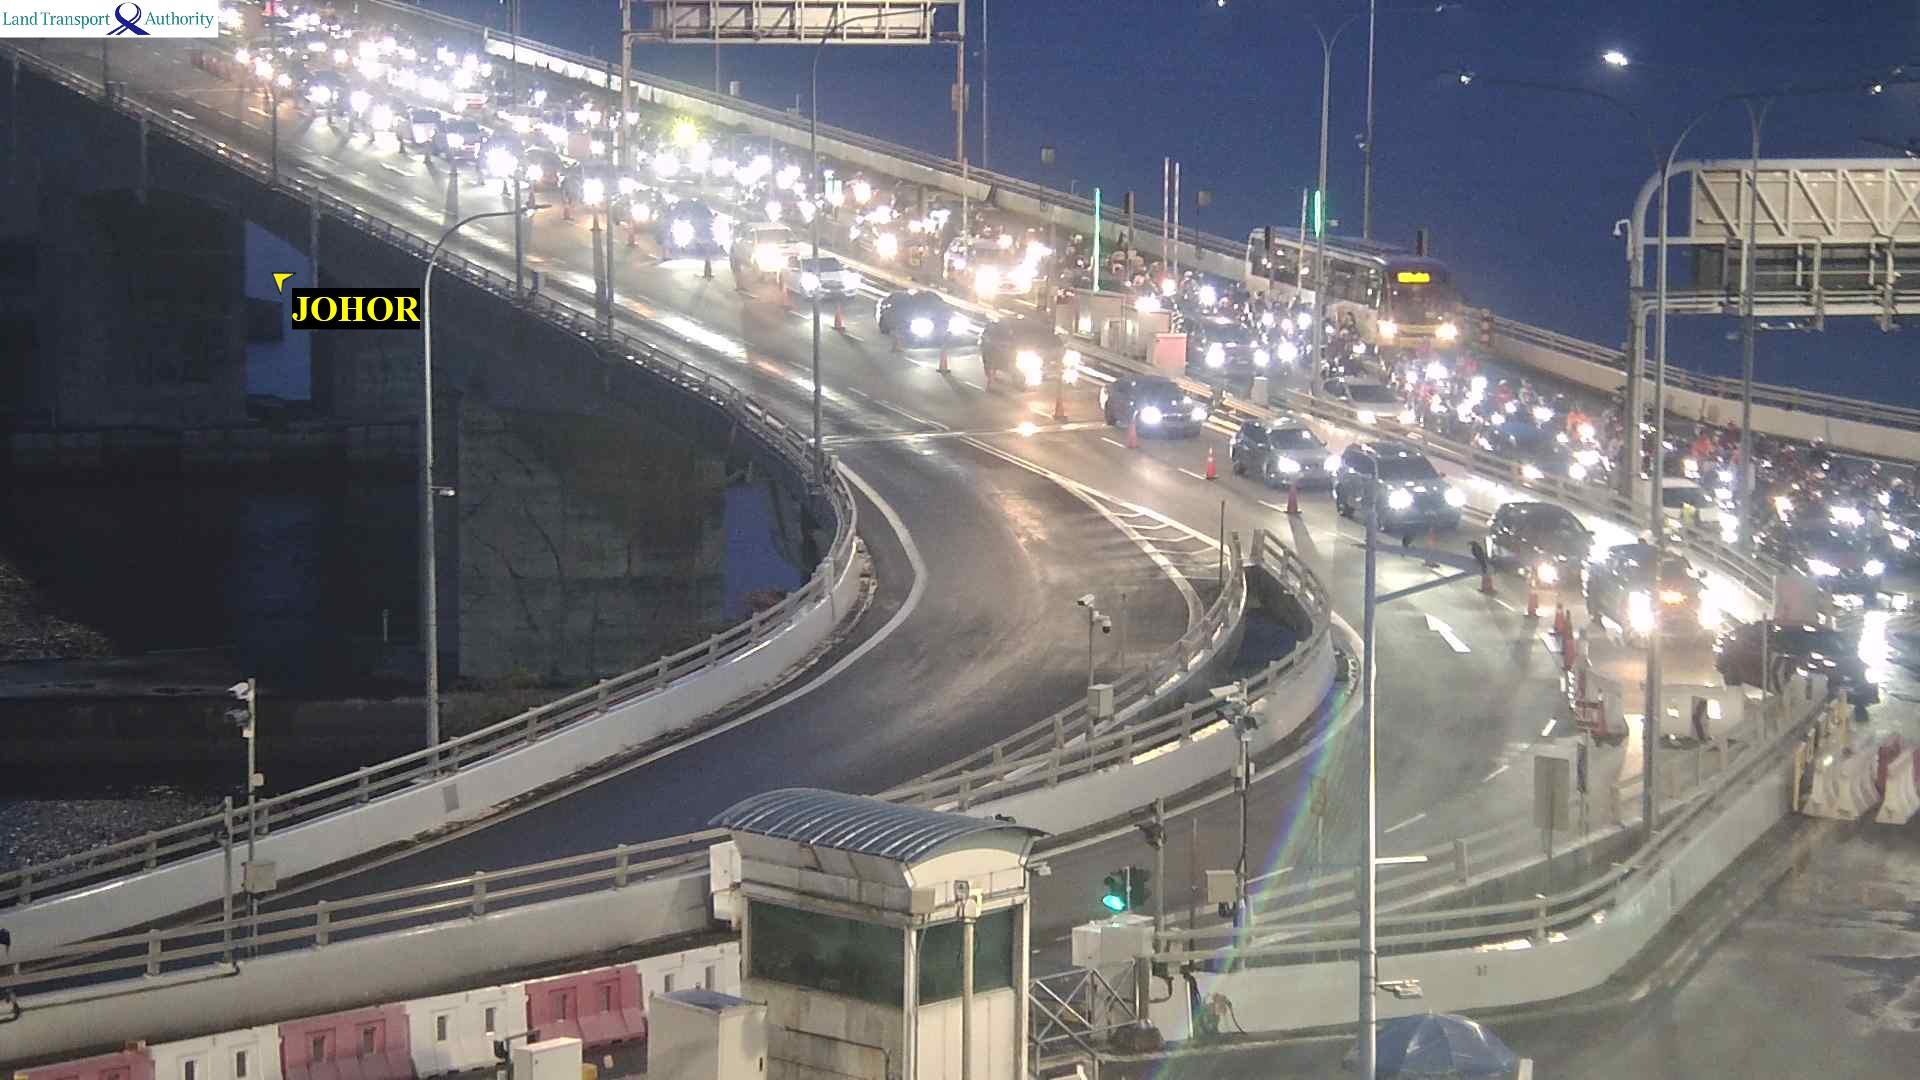vehicle-secondlink-singapore: (1201, 230, 1478, 357), (1730, 620, 1875, 703), (1593, 546, 1698, 639), (1760, 519, 1885, 597), (1342, 454, 1460, 531), (1490, 503, 1583, 580), (1235, 428, 1338, 494), (879, 289, 981, 355), (1099, 376, 1197, 441), (1487, 376, 1558, 452), (1317, 376, 1415, 427), (944, 237, 1027, 295), (1182, 320, 1266, 374), (734, 220, 800, 274), (791, 255, 859, 305), (659, 198, 722, 251), (859, 199, 909, 258), (1667, 473, 1724, 522), (567, 160, 622, 196), (430, 124, 488, 157), (610, 186, 663, 220), (1817, 467, 1847, 527), (755, 189, 808, 220), (520, 149, 565, 184), (305, 75, 346, 110), (1427, 366, 1458, 411), (399, 110, 444, 141), (481, 140, 523, 171), (1570, 399, 1592, 452), (1136, 280, 1168, 315), (369, 102, 406, 130), (1888, 481, 1910, 528), (344, 91, 380, 119), (243, 42, 273, 74), (278, 64, 310, 91), (501, 103, 538, 124), (453, 85, 485, 109), (584, 127, 610, 156), (1181, 269, 1199, 298), (329, 44, 353, 65), (1113, 251, 1131, 276), (303, 33, 321, 52)
